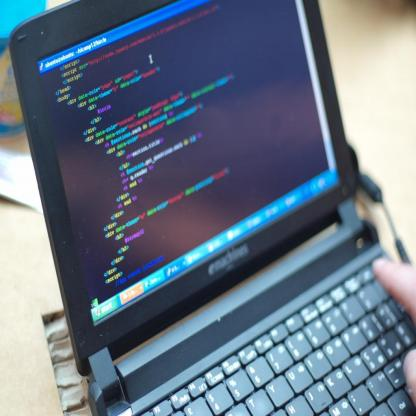board: (18, 6, 416, 416)
